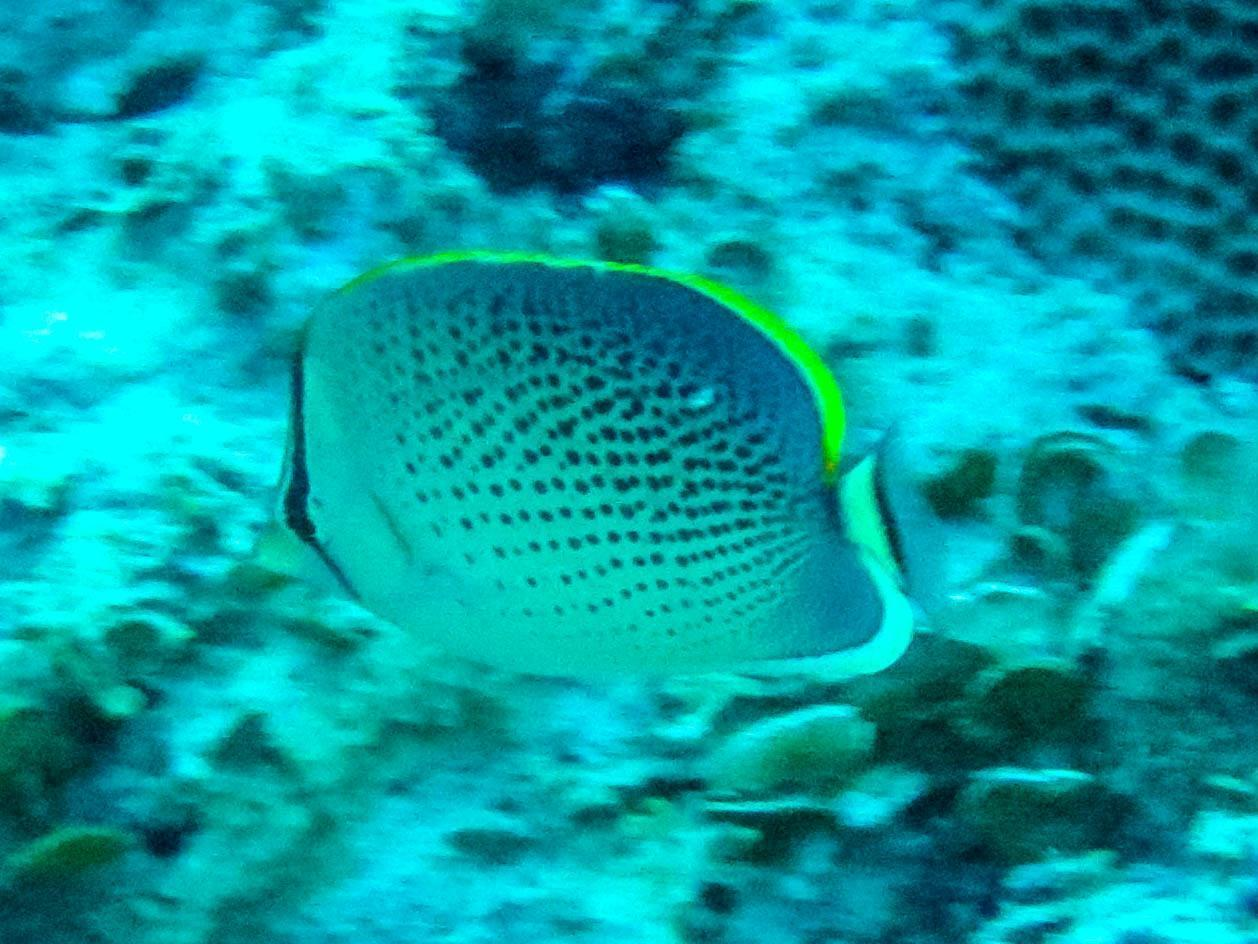Fish: (140, 144, 1052, 761)
